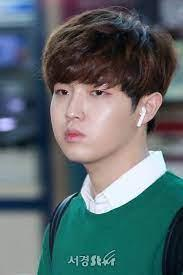earphone: (133, 105, 149, 129)
